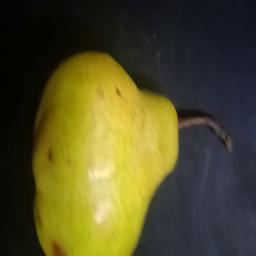Pear Fresh: (20, 49, 240, 235)
